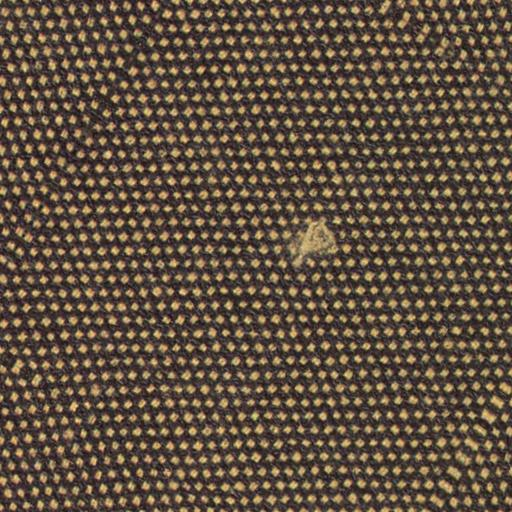knot: (286, 214, 346, 275)
